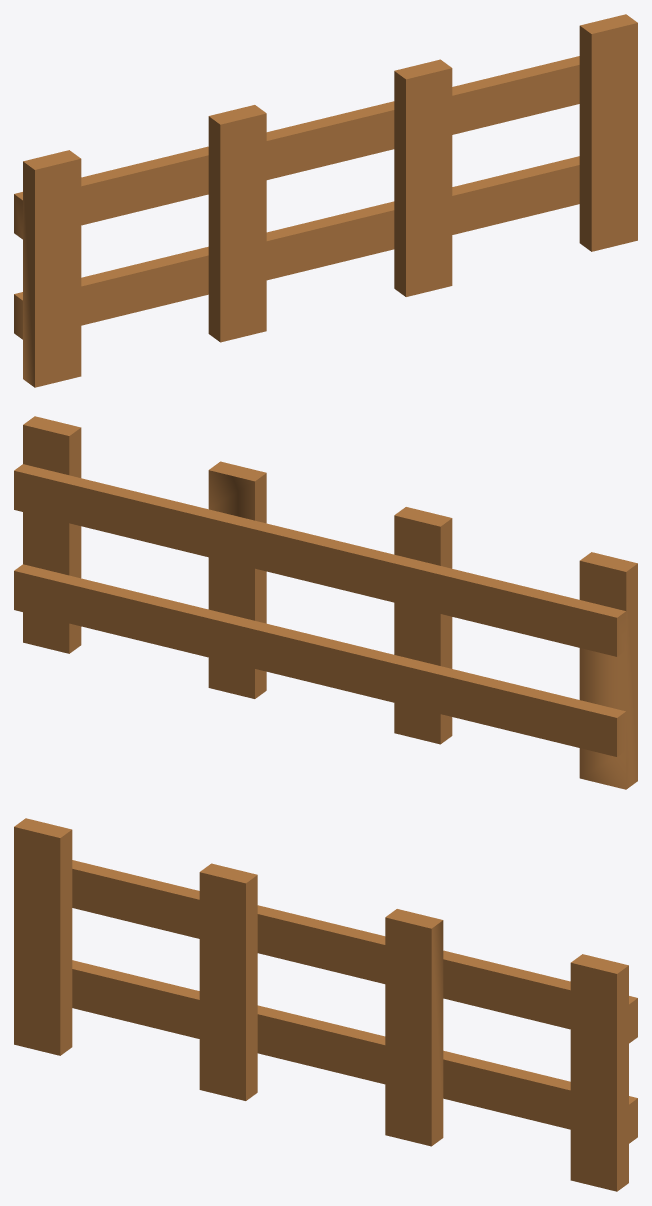
The model's file is fence_planksDouble.glb.
3 views of the same model, one above another, from view 1: azimuth 30°, elevation 25°; view 2: azimuth 150°, elevation 25°; view 3: azimuth 330°, elevation 25° (orthographic).
Parts seen in each view (by area): view 1: fence_planksDouble; view 2: fence_planksDouble; view 3: fence_planksDouble.
Boxes of the visible parts, left/top/right/bottom form: fence_planksDouble: left=14, top=14, right=637, bottom=387; fence_planksDouble: left=14, top=416, right=637, bottom=789; fence_planksDouble: left=14, top=818, right=637, bottom=1191.
Bounding box in the file's own units: 1 × 0.345 × 0.0599.
